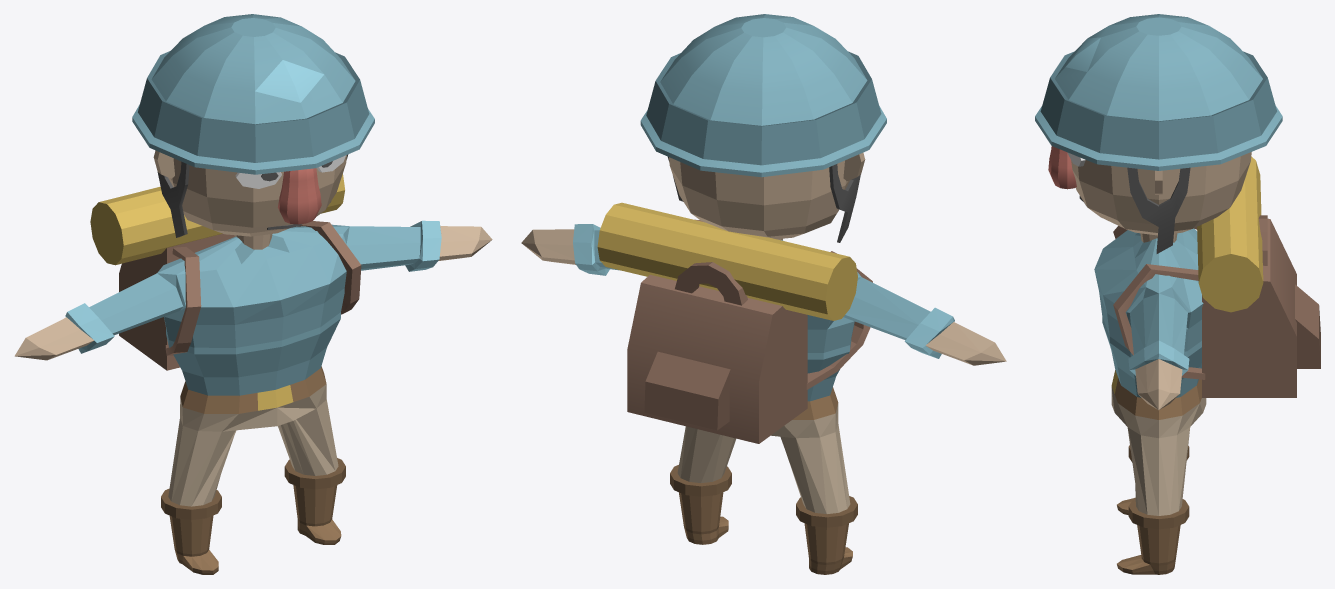
The model's file is Gunner.fbx.
3 views of the same model, side by side, from view 1: azimuth 30°, elevation 25°; view 2: azimuth 150°, elevation 25°; view 3: azimuth 270°, elevation 25° (orthographic). The views are drawn at different scales.
Visible parts, largest first — view 1: polySurface2, pasted__pCylinder1, pSphere1, pasted__pCylinder3, pasted__pCube2, pCylinder2, polySurface3, polySurface4, pPipe1; view 2: pasted__pCylinder1, polySurface2, pasted__pCube2, pasted__pCylinder3, pSphere1, pasted__pCube3, pasted__pPipe1, pPipe1, polySurface3; view 3: pasted__pCylinder1, polySurface2, pasted__pCube2, pSphere1, pasted__pCylinder3, pPipe2, polySurface4, pasted__pCube3, pCylinder2.
Boxes of the visible parts, bbox=[...] form: polySurface2: bbox=[14, 220, 492, 574]; pasted__pCylinder1: bbox=[132, 14, 374, 174]; pSphere1: bbox=[168, 155, 346, 236]; pasted__pCylinder3: bbox=[90, 174, 344, 265]; pasted__pCube2: bbox=[119, 234, 234, 370]; pCylinder2: bbox=[277, 168, 321, 224]; polySurface3: bbox=[165, 247, 201, 355]; polySurface4: bbox=[297, 221, 361, 314]; pPipe1: bbox=[157, 161, 189, 237]; pasted__pCylinder1: bbox=[640, 14, 886, 177]; polySurface2: bbox=[521, 224, 1006, 574]; pasted__pCube2: bbox=[627, 274, 807, 443]; pasted__pCylinder3: bbox=[597, 202, 857, 320]; pSphere1: bbox=[669, 157, 850, 239]; pasted__pCube3: bbox=[644, 351, 730, 430]; pasted__pPipe1: bbox=[675, 262, 747, 305]; pPipe1: bbox=[829, 164, 860, 242]; polySurface3: bbox=[806, 251, 872, 389]; pasted__pCylinder1: bbox=[1035, 14, 1282, 170]; polySurface2: bbox=[1094, 228, 1206, 574]; pasted__pCube2: bbox=[1202, 218, 1296, 397]; pSphere1: bbox=[1071, 152, 1251, 235]; pasted__pCylinder3: bbox=[1197, 156, 1263, 312]; pPipe2: bbox=[1127, 167, 1190, 253]; polySurface4: bbox=[1113, 264, 1205, 379]; pasted__pCube3: bbox=[1295, 284, 1320, 368]; pCylinder2: bbox=[1048, 146, 1076, 189].
Size of the model in its own units: 5.75 by 5.95 by 3.
